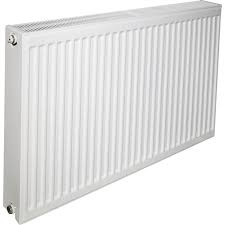Radiator: (1, 1, 224, 223)
